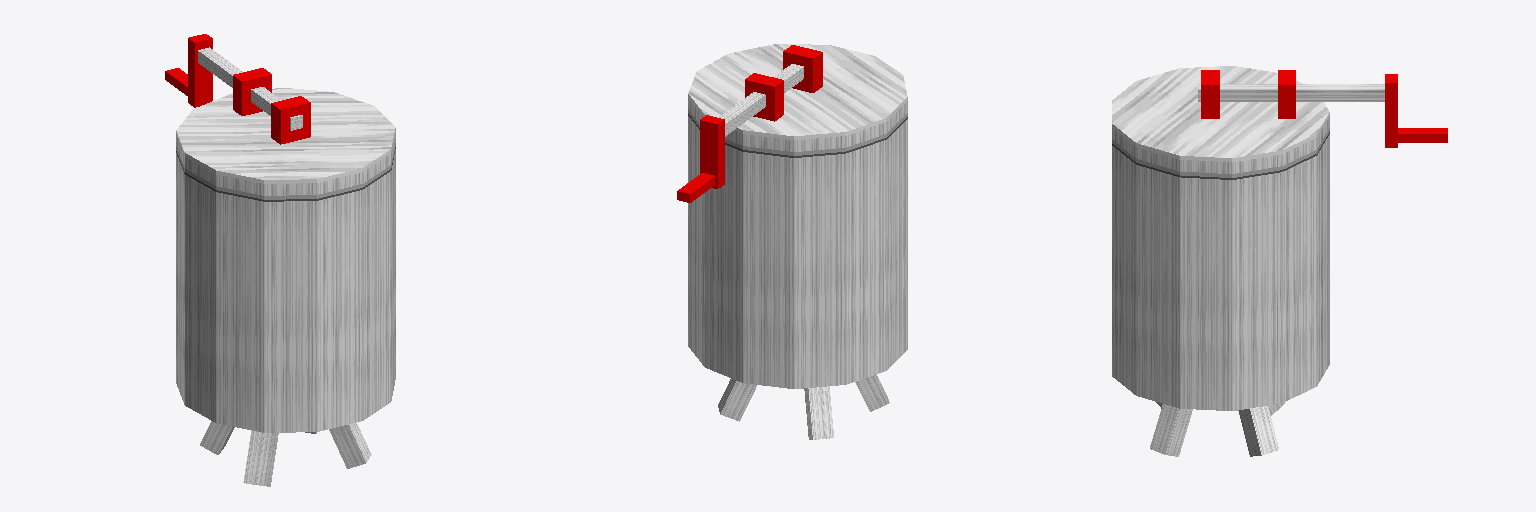
3 renders of one model, left to right at view 1: azimuth 30°, elevation 25°; view 2: azimuth 150°, elevation 25°; view 3: azimuth 270°, elevation 25°, orthographic.
Visible parts, largest first — view 1: Cube.001; view 2: Cube.001; view 3: Cube.001.
Part boxes in pixels (left/top/right/bottom): Cube.001: left=165, top=34, right=395, bottom=486; Cube.001: left=677, top=44, right=907, bottom=439; Cube.001: left=1112, top=66, right=1447, bottom=456.
Size of the model in its own units: 0.8054 by 1.45 by 1.23.
Materials: 1 (1 with a texture image).